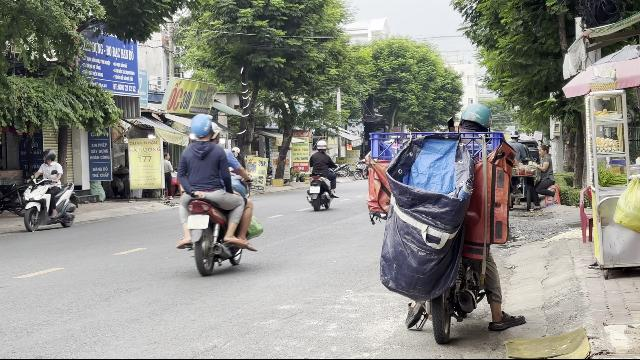helmet: (458, 102, 492, 130), (186, 113, 214, 143), (44, 150, 56, 162)
licenseplate: (187, 216, 210, 229)
motorcyclist: (370, 99, 528, 347), (174, 112, 260, 276), (20, 150, 80, 232)
